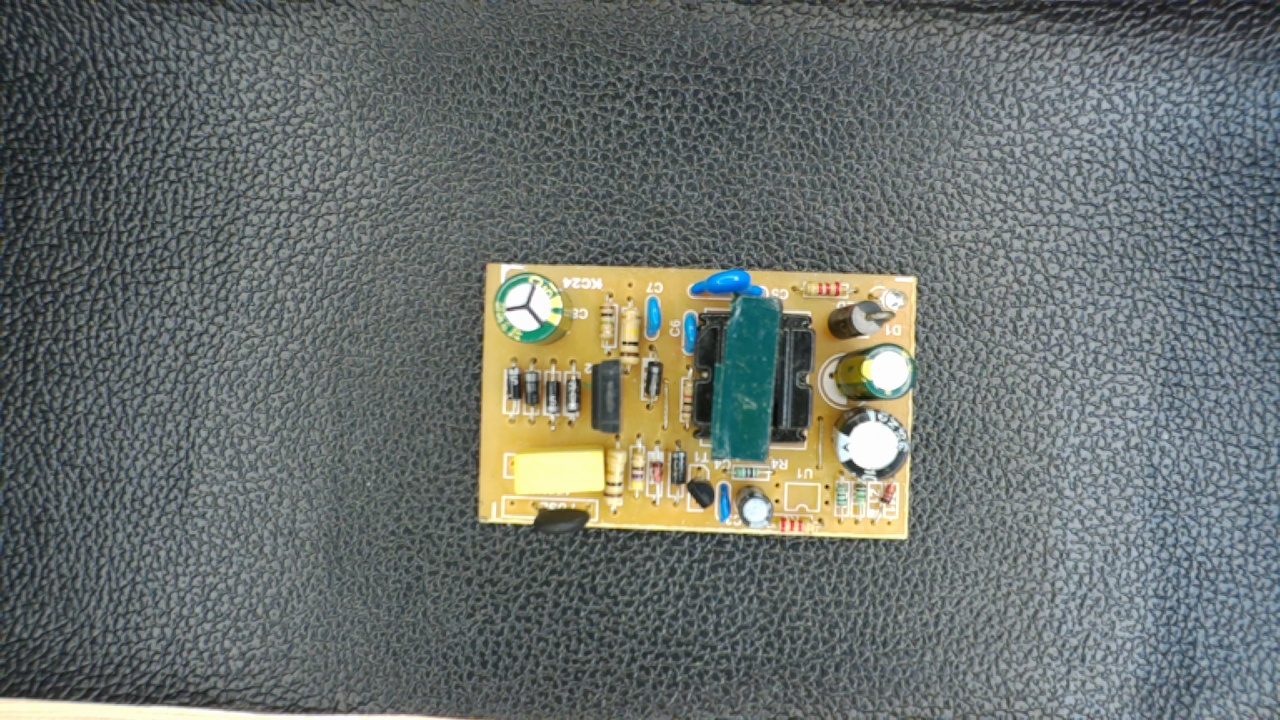fuse: (519, 495, 602, 536)
hv_capacitor: (491, 269, 572, 342)
mov: (686, 264, 768, 303)
